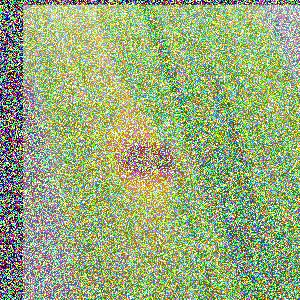Bacterial_Leaf_Blight: (100, 123, 191, 192), (117, 33, 145, 55), (52, 110, 77, 129), (72, 66, 95, 85)
